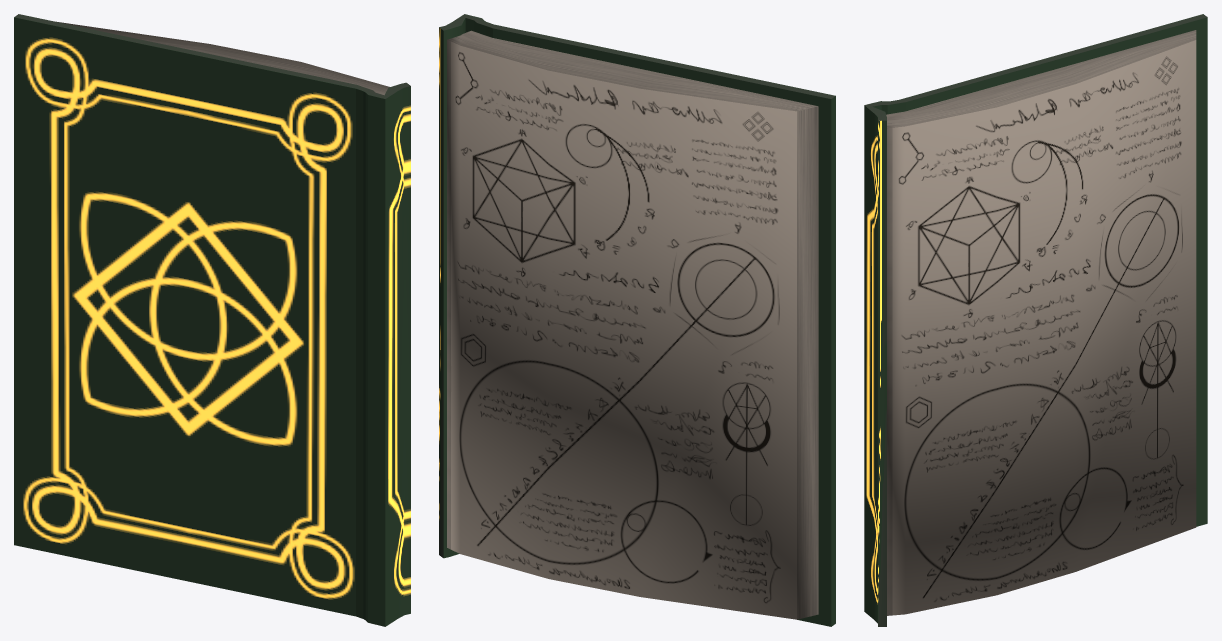
Rendered from Tome_RightWing.fbx.
The picture shows the model from 3 angles, left to right: view 1: azimuth 30°, elevation 25°; view 2: azimuth 210°, elevation 25°; view 3: azimuth 270°, elevation 25°; orthographic projection. The views are drawn at different scales.
Parts seen in each view (by area): view 1: TomeCover_Right, TomePageHalf_Right; view 2: TomePageHalf_Right, TomeCover_Right; view 3: TomePageHalf_Right, TomeCover_Right.
Boxes of the visible parts, x1,y1,x2,y2 form: TomeCover_Right: (14,14,410,626); TomePageHalf_Right: (56,21,389,95); TomePageHalf_Right: (447,30,818,619); TomeCover_Right: (439,14,835,626); TomePageHalf_Right: (886,30,1196,615); TomeCover_Right: (864,14,1207,626).
Size of the model in its own units: 77.32 by 171 by 105.
